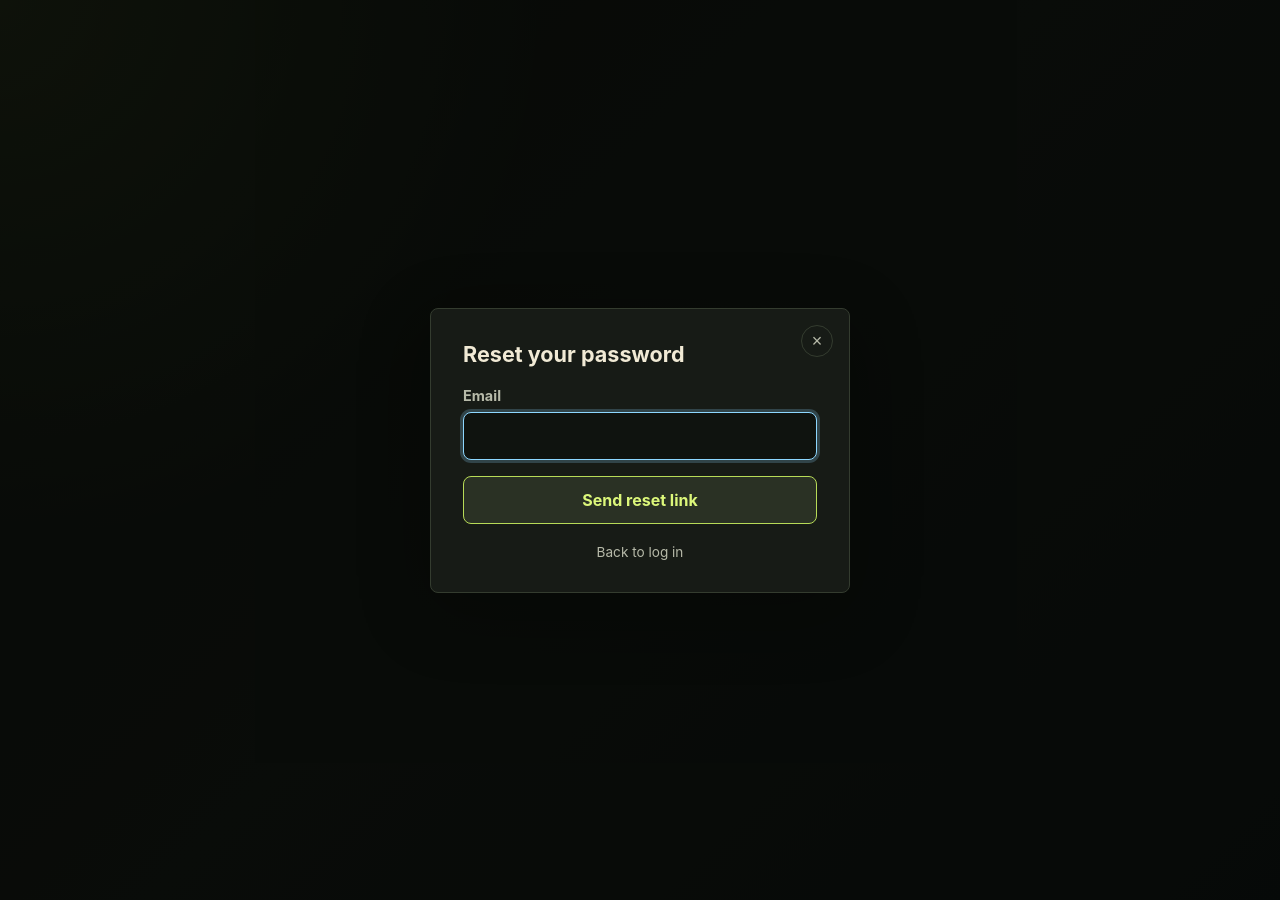
Test case: AuthModal — forgot password › submits the typed email with the expected redirectTo and shows forgot-specific success copy
Step 1. Type "frog@example.com" into the field with id "authEmail" → [640, 436], box [463,412,817,460]
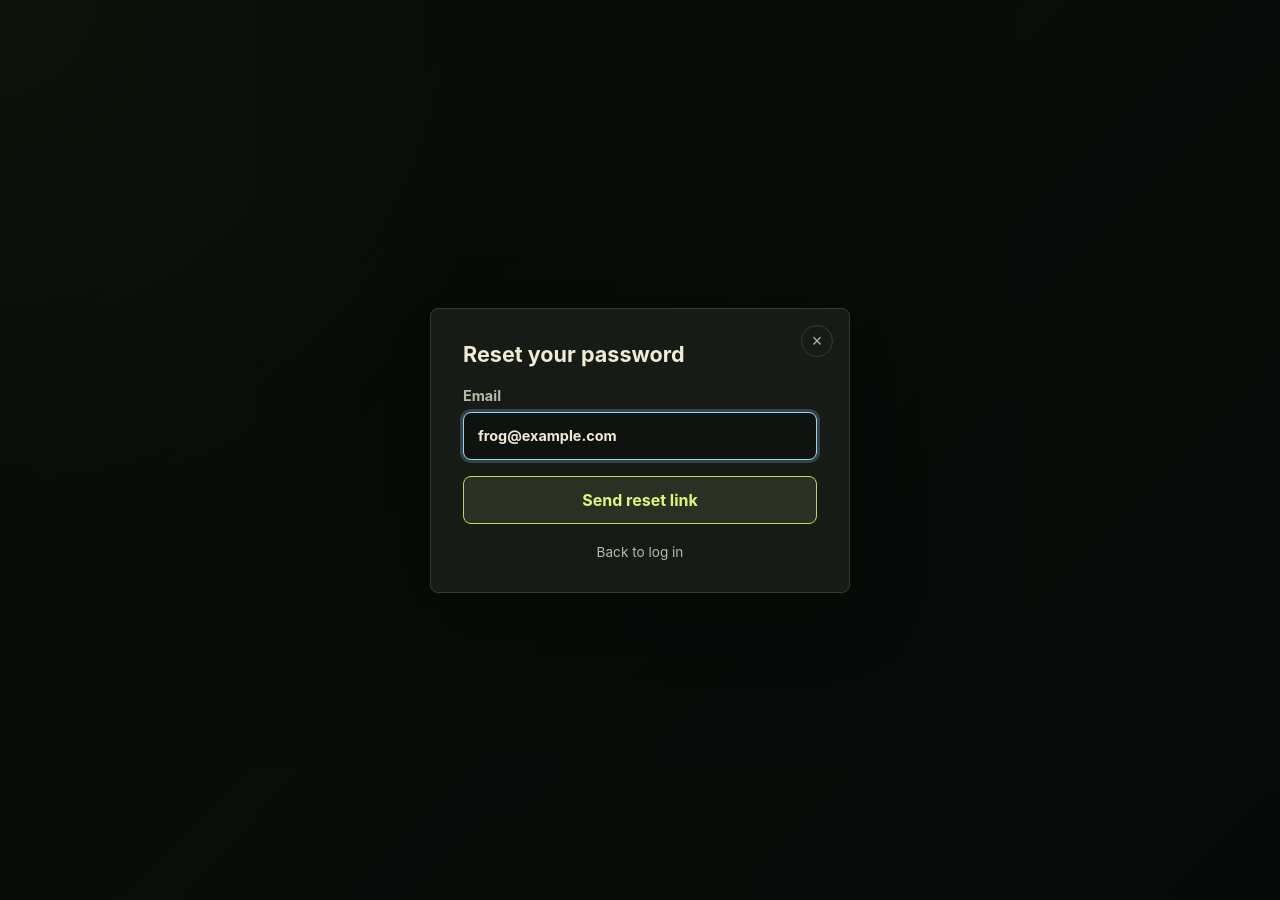
Step 2. Click the button "Send reset link" → [640, 500], box [463,476,817,524]
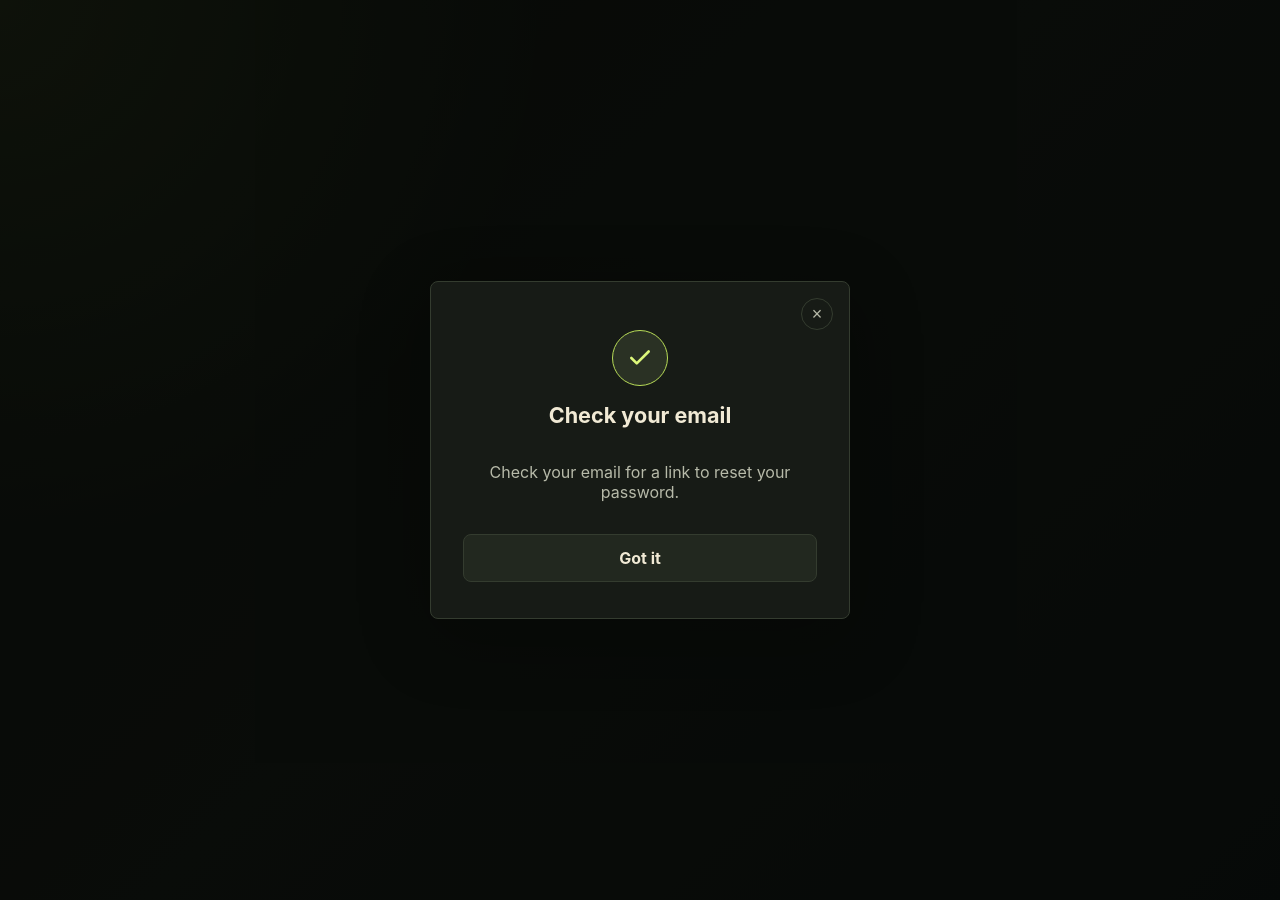
Expected: the text "Check your email for a link to reset your password." is shown, [489,462,791,502]
